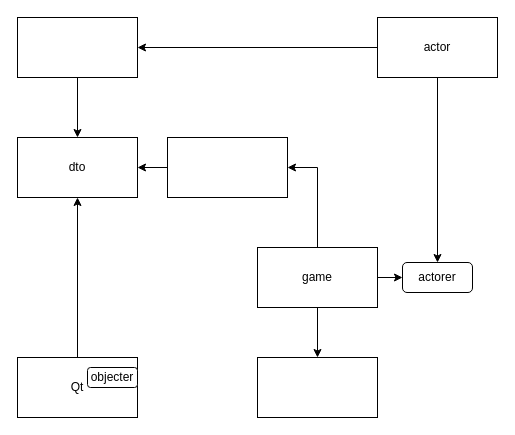
This 515x435 diagram has some shape labels left out. Each missing label, with the centre of its shape:
phys: (x=77, y=47)
state: (x=317, y=387)
world: (x=227, y=167)
